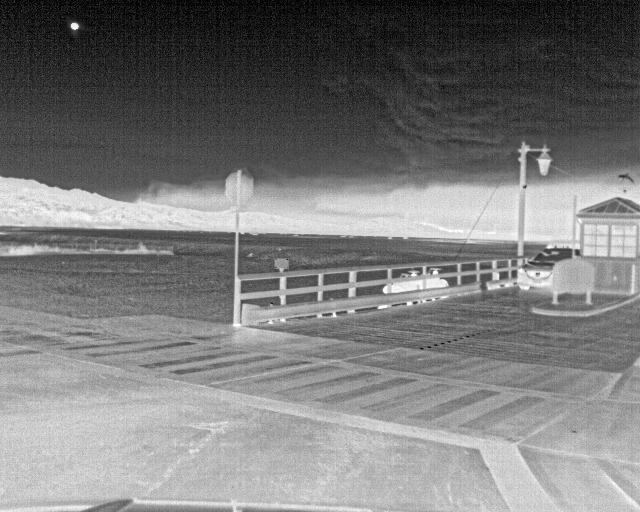car: (515, 247, 582, 291)
